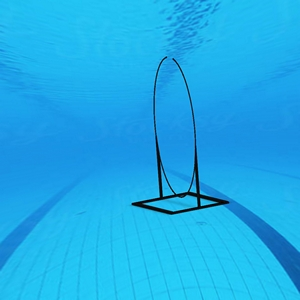circle: (129, 54, 232, 219)
